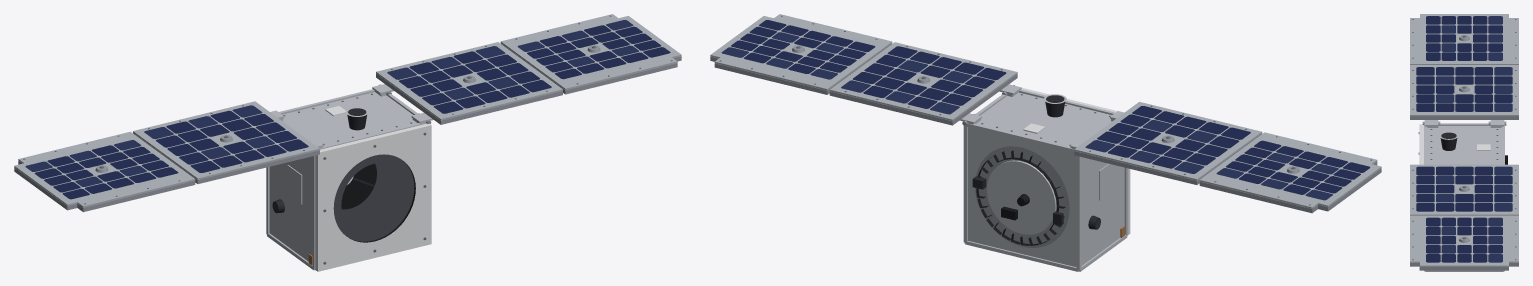
Rendered from planet-pelican.glb.
The picture shows the model from 3 angles, left to right: view 1: azimuth 30°, elevation 25°; view 2: azimuth 150°, elevation 25°; view 3: azimuth 270°, elevation 25°; orthographic projection. The views are drawn at different scales.
Visible parts, largest first — view 1: solar-panel, body; view 2: solar-panel, body; view 3: solar-panel, body.
Boxes of the visible parts, bbox=[...] form: solar-panel: bbox=[14, 14, 681, 207]; body: bbox=[14, 15, 681, 271]; solar-panel: bbox=[710, 14, 1381, 208]; body: bbox=[710, 15, 1381, 271]; solar-panel: bbox=[1410, 14, 1518, 266]; body: bbox=[1410, 19, 1518, 271].
Size of the model in its own units: 3.07 by 0.6408 by 0.5599.
